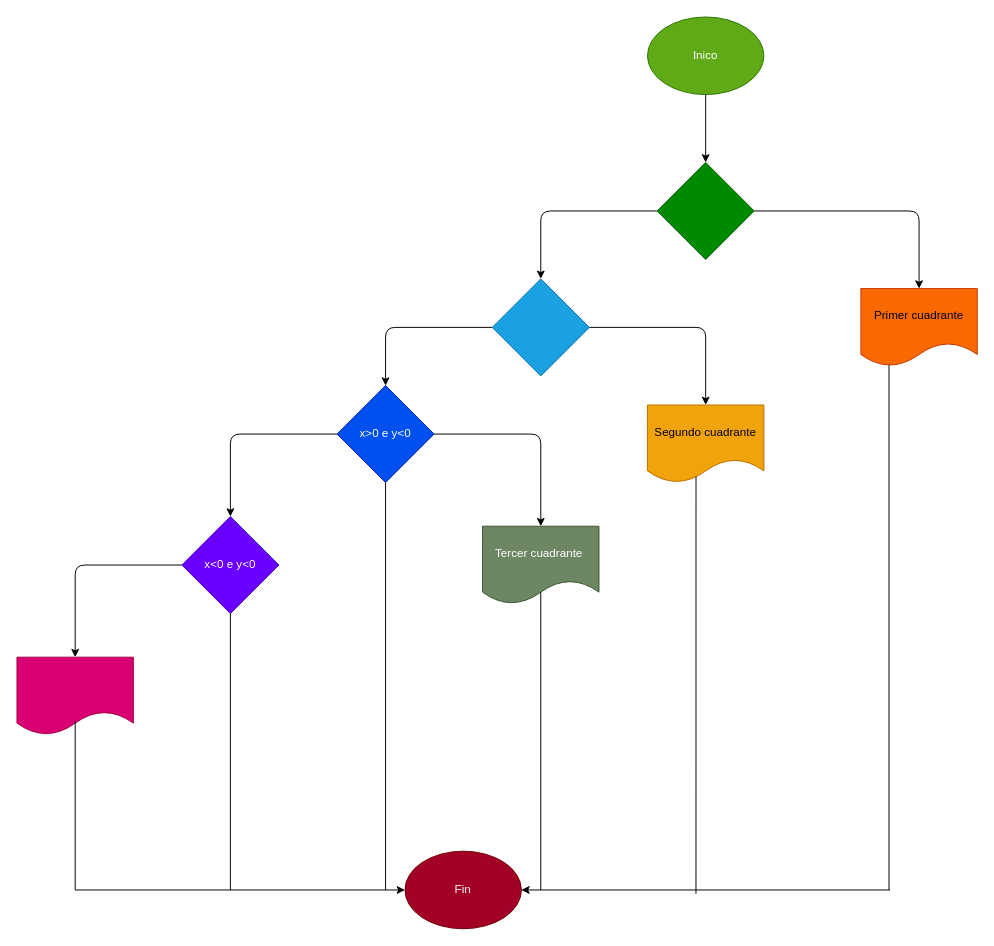
Some shapes in this 994 by 946 pixel diagram are drawn without their labels. Here are the shapes that lost their labels. From the top down, the box of each, then its label:
(656, 162, 754, 259): x>o e y>0
(491, 278, 589, 376): x<0 e y>0
(16, 656, 133, 735): Cuatro cuadrantes
